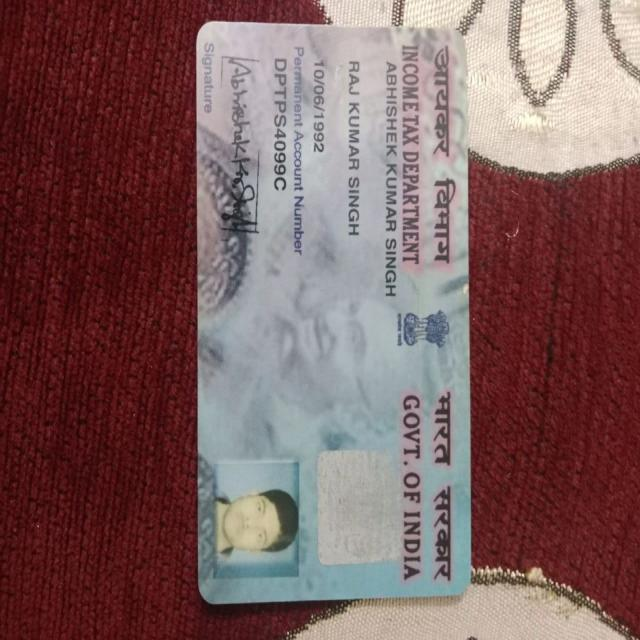pan_card: (199, 27, 465, 595)
